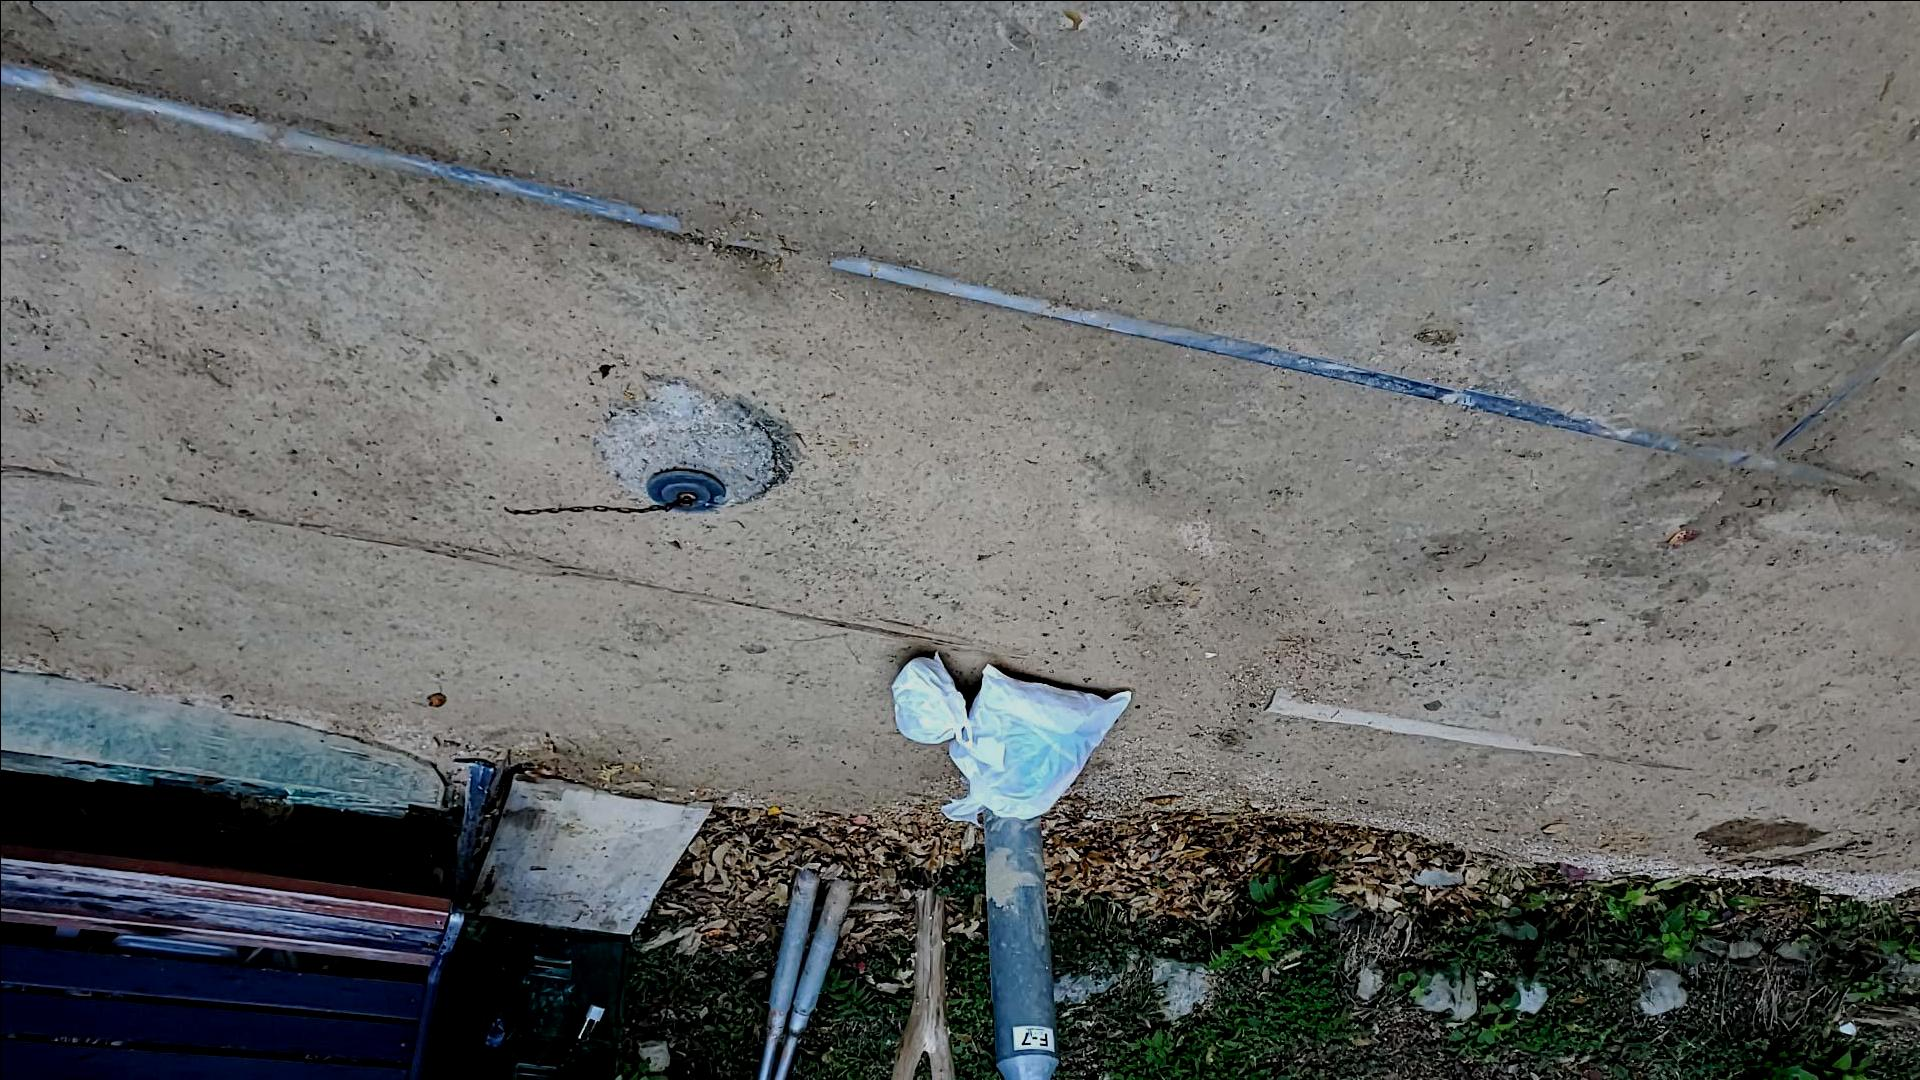white_bag: (938, 658, 1139, 829), (886, 653, 978, 752)
